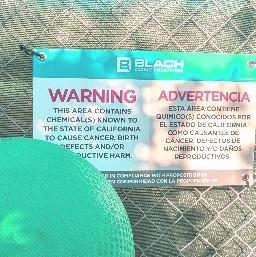algae: (0, 131, 128, 257)
